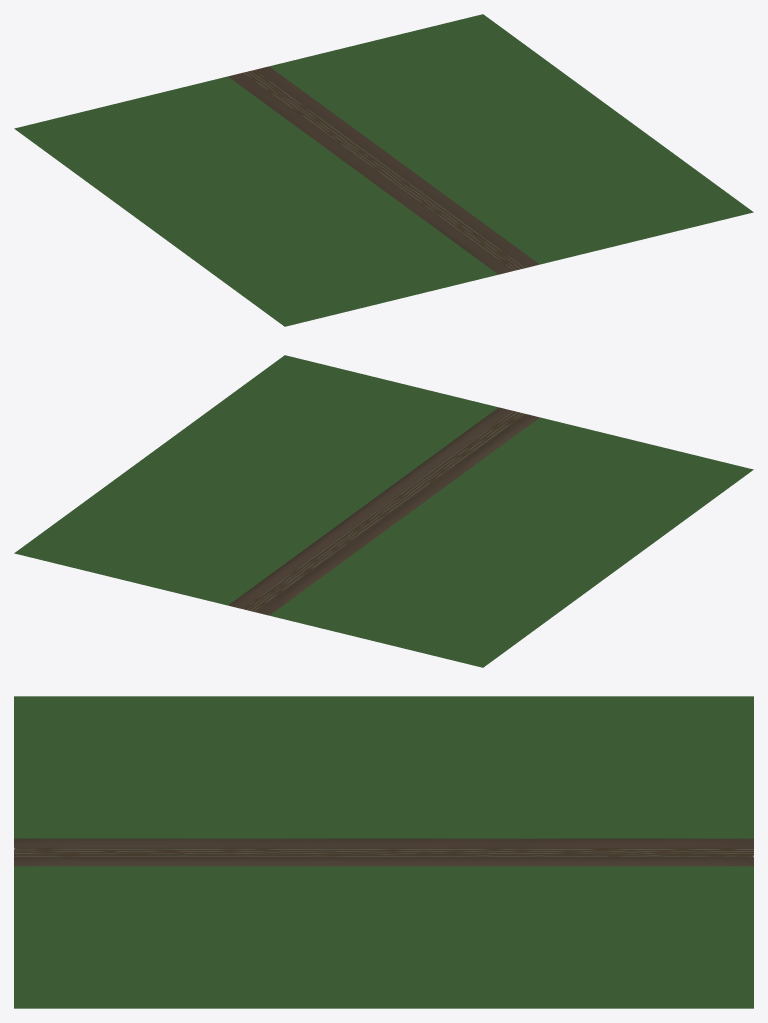
File: TileForest1.fbx
The picture shows the model from 3 angles, top to bottom: view 1: azimuth 30°, elevation 25°; view 2: azimuth 150°, elevation 25°; view 3: azimuth 270°, elevation 25°; orthographic projection. The views are drawn at different scales.
Visible parts, largest first — view 1: Plane.013, Plane.017, Road; view 2: Plane.013, Plane.017, Road; view 3: Plane.013, Plane.017, Road.
Part boxes in pixels (left/top/right/bottom): Plane.013: left=14, top=14, right=753, bottom=326; Plane.017: left=228, top=66, right=539, bottom=274; Road: left=242, top=69, right=525, bottom=271; Plane.013: left=14, top=355, right=753, bottom=667; Plane.017: left=228, top=407, right=539, bottom=615; Road: left=242, top=410, right=525, bottom=612; Plane.013: left=14, top=696, right=753, bottom=1008; Plane.017: left=14, top=838, right=753, bottom=866; Road: left=14, top=847, right=753, bottom=857.
Bounding box in the file's own units: 20000 × 58.88 × 20006.
